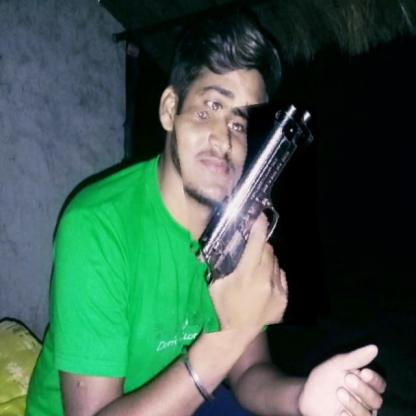handgun: (180, 101, 325, 330)
